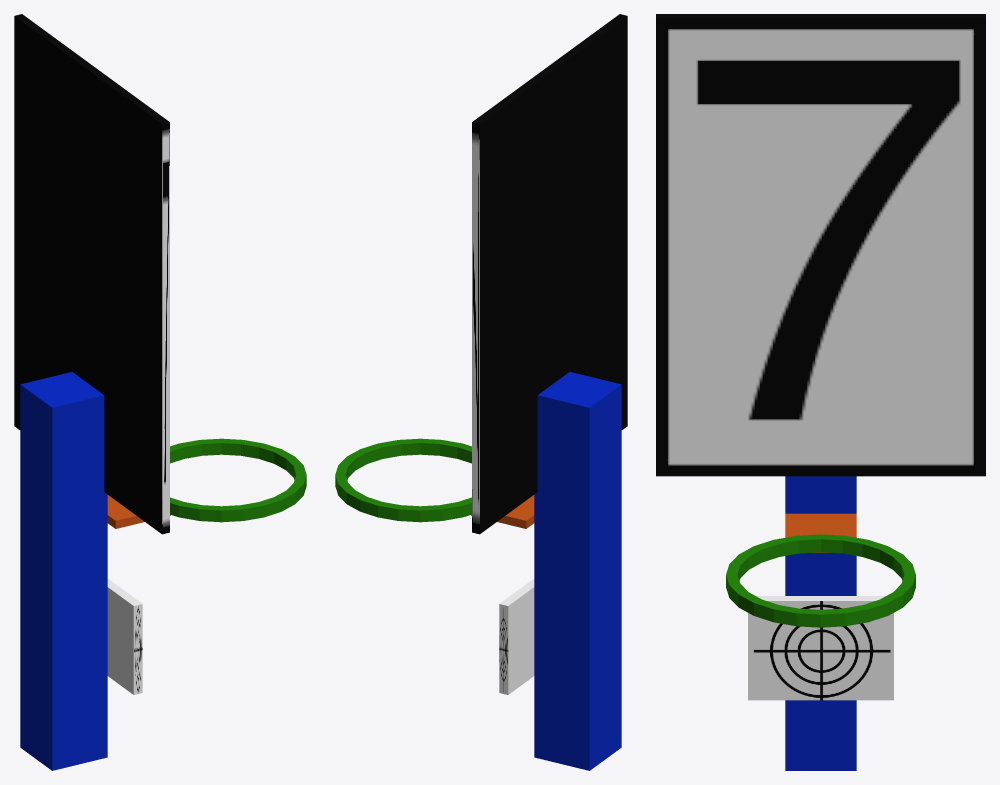
The model's file is sick_robot_day_2014_target_station_complete_7.dae.
3 views of the same model, side by side, from view 1: azimuth 30°, elevation 25°; view 2: azimuth 150°, elevation 25°; view 3: azimuth 270°, elevation 25° (orthographic). The views are drawn at different scales.
Visible parts, largest first — view 1: Cube, Cube_003, Cylinder, Cube_001, Cube_004; view 2: Cube, Cube_003, Cylinder, Cube_001, Cube_004; view 3: Cube, Cube_001, Cube_003, Cylinder, Cube_004.
Part boxes in pixels (x1,y1,x2,y2): Cube: (14, 14, 169, 534); Cube_003: (20, 372, 107, 770); Cylinder: (170, 438, 306, 522); Cube_001: (107, 578, 142, 694); Cube_004: (107, 495, 170, 528); Cube: (472, 14, 627, 534); Cube_003: (534, 372, 621, 770); Cylinder: (335, 438, 471, 522); Cube_001: (499, 578, 534, 694); Cube_004: (471, 495, 534, 528); Cube: (656, 14, 985, 476); Cube_001: (748, 596, 893, 700); Cube_003: (785, 476, 856, 770); Cylinder: (726, 534, 915, 627); Cube_004: (785, 513, 856, 552).
Bounding box in the file's own units: 0.5801 × 0.5736 × 1.45.
5 materials, 2 textured.
